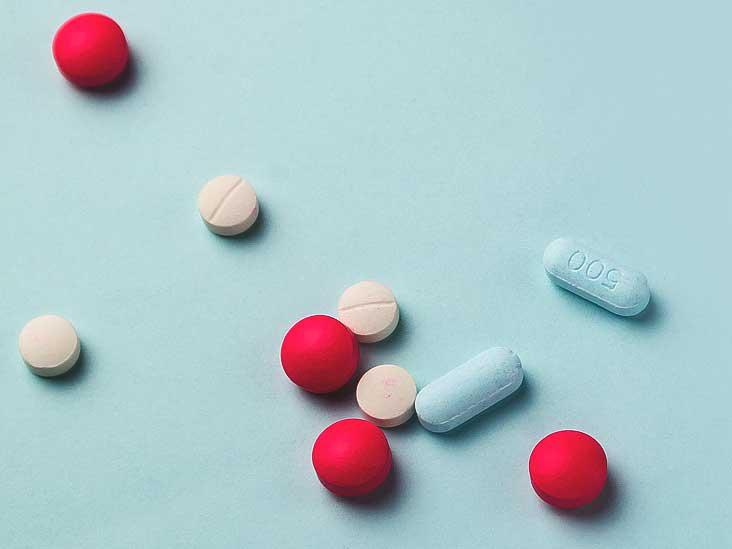tablet: (413, 343, 526, 436), (540, 235, 652, 321), (50, 11, 137, 98), (531, 427, 610, 513), (310, 418, 393, 497), (282, 315, 360, 396), (17, 313, 85, 382), (337, 278, 400, 342), (355, 361, 417, 425), (197, 173, 260, 233)
